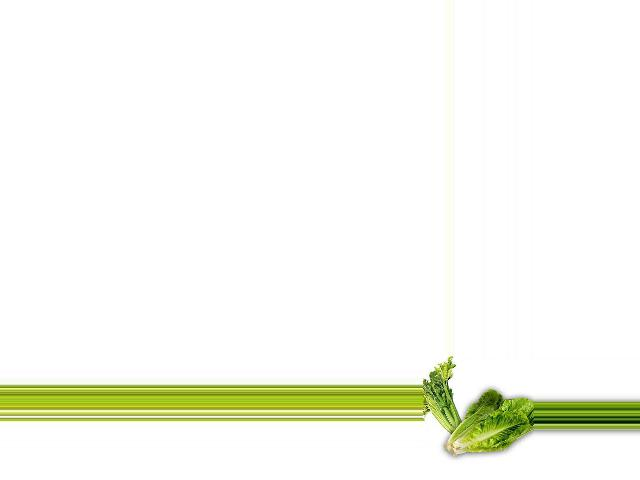lettuce: (440, 382, 534, 452)
